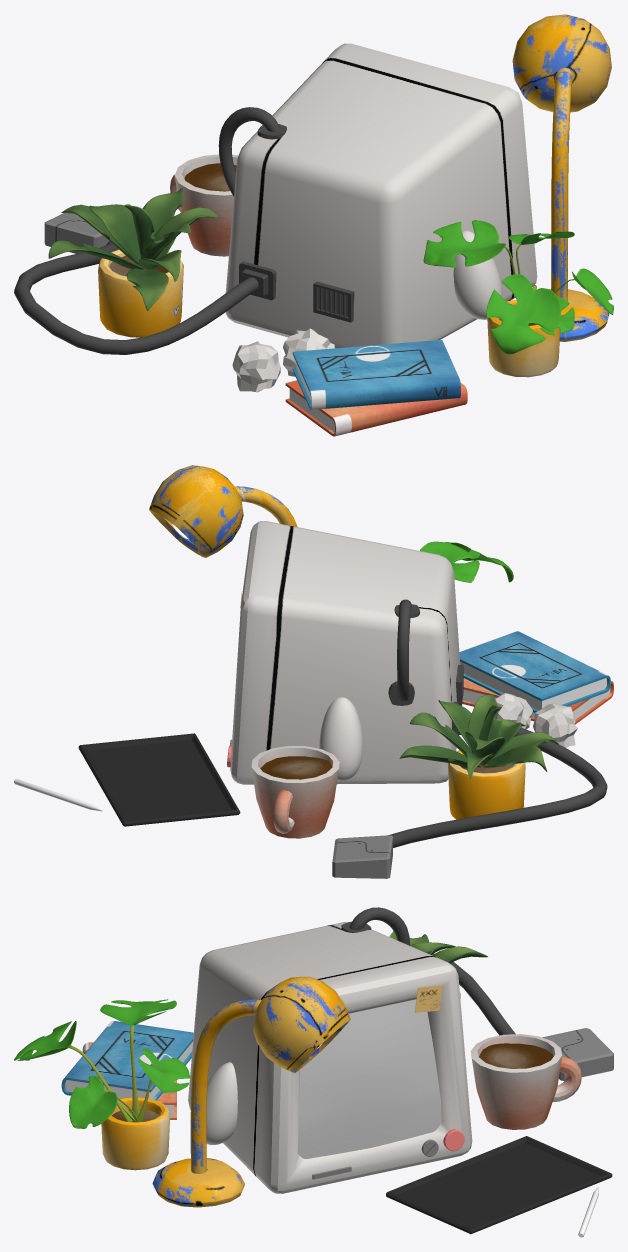
3 views of the same model, one above another, from view 1: azimuth 30°, elevation 25°; view 2: azimuth 150°, elevation 25°; view 3: azimuth 270°, elevation 25° (orthographic). The views are drawn at different scales.
Visible parts, largest first — view 1: Cube.094, Plane.023, Cube.091, Cube.092, Cube.089, back.040, Cylinder.027, BezierCurve.006, mug.008, Plane.022, Cylinder.028, Cube.095 (+8 smaller); view 2: Cube.094, Cube.086, Cube.092, Cube.089, Plane.023, mug.008, back.040, Cylinder.027, Cube.095, back.039, Cube.091, Plane.024 (+7 smaller); view 3: Cube.094, Display.008, Cube.086, Cube.091, mug.008, Cube.089, Plane.023, Cylinder.028, Cube.088, BezierCurve.006, Cube.095, back.039 (+7 smaller).
Part boxes in pixels (x1,y1,x2,y2): Cube.094: (225, 43, 537, 348); Plane.023: (292, 340, 460, 409); Cube.091: (423, 220, 613, 354); Cube.092: (48, 187, 220, 310); Cube.089: (512, 14, 611, 112); back.040: (14, 241, 258, 354); Cylinder.027: (98, 249, 183, 337); BezierCurve.006: (551, 68, 572, 301); mug.008: (170, 154, 238, 256); Plane.022: (285, 380, 467, 436); Cylinder.028: (487, 300, 560, 377); Cube.095: (453, 230, 502, 319); Cube.094: (230, 521, 462, 784); Cube.086: (78, 733, 240, 826); Cube.092: (399, 694, 559, 778); Cube.089: (149, 465, 243, 557); Plane.023: (459, 631, 610, 712); mug.008: (251, 746, 339, 838); back.040: (388, 727, 607, 847); Cylinder.027: (447, 747, 525, 826); Cube.095: (319, 697, 363, 781); back.039: (332, 835, 392, 878); Cube.091: (420, 541, 513, 582); Plane.024: (460, 661, 606, 710); Cube.094: (188, 922, 472, 1193); Display.008: (297, 999, 441, 1158); Cube.086: (386, 1136, 612, 1234); Cube.091: (14, 999, 190, 1128); mug.008: (470, 1034, 581, 1129); Cube.089: (253, 976, 350, 1073); Plane.023: (61, 1021, 193, 1100); Cylinder.028: (101, 1097, 170, 1170); Cube.088: (152, 1158, 244, 1207); BezierCurve.006: (190, 999, 261, 1173); Cube.095: (206, 1062, 237, 1144); back.039: (542, 1028, 613, 1080).
Bounding box in the file's own units: 5.87 × 2.66 × 6.04.
